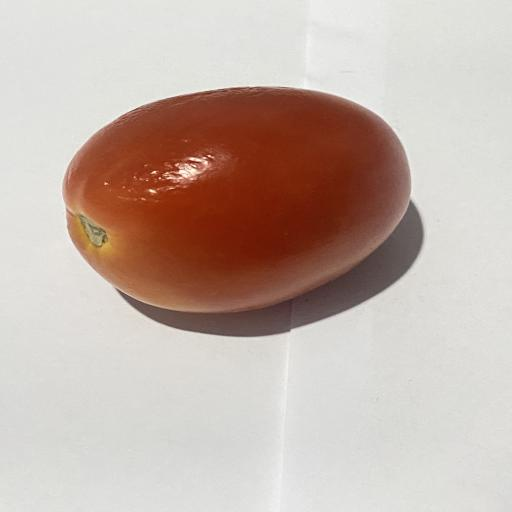spoiled: (63, 87, 410, 313)
